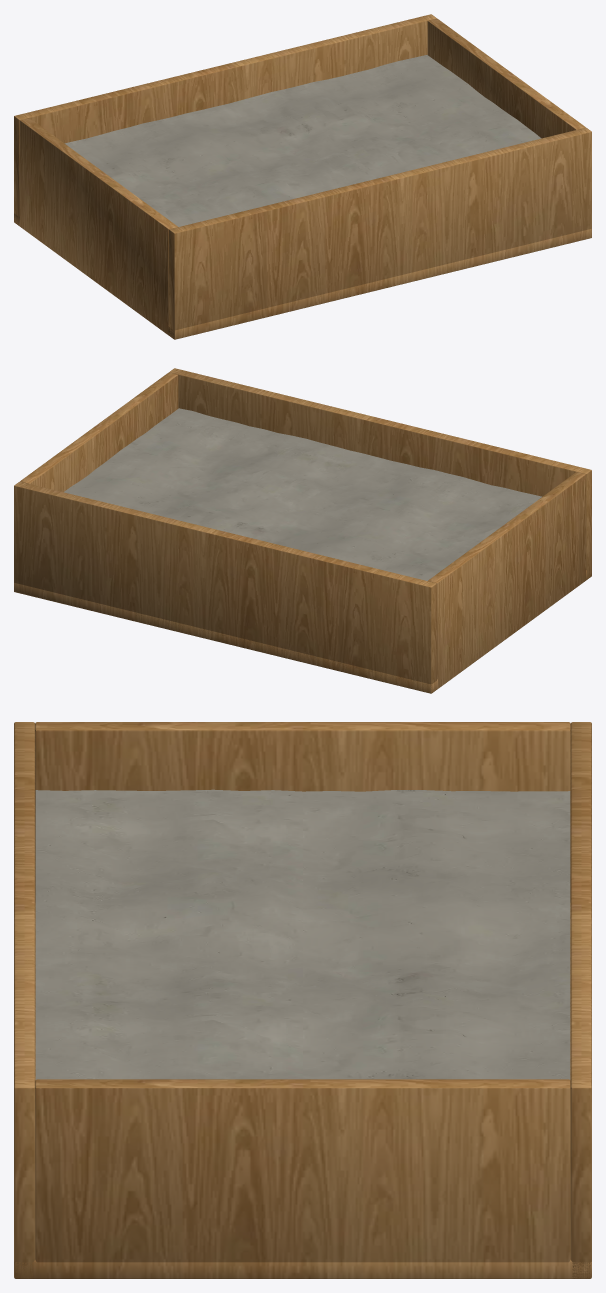
The model's file is REV-ARG-003.glb.
3 views of the same model, one above another, from view 1: azimuth 30°, elevation 25°; view 2: azimuth 150°, elevation 25°; view 3: azimuth 270°, elevation 25° (orthographic). The views are drawn at different scales.
Parts seen in each view (by area): view 1: REV-ARG-003_lado-1, REV-ARG-003_argamassa, REV-ARG-003_cab-1, REV-ARG-003_lado1, REV-ARG-003_cab1, REV-ARG-003_fundo; view 2: REV-ARG-003_lado1, REV-ARG-003_argamassa, REV-ARG-003_cab-1, REV-ARG-003_lado-1, REV-ARG-003_cab1, REV-ARG-003_fundo; view 3: REV-ARG-003_argamassa, REV-ARG-003_cab1, REV-ARG-003_cab-1, REV-ARG-003_lado-1, REV-ARG-003_lado1, REV-ARG-003_fundo.
Part boxes in pixels (<box>): REV-ARG-003_lado-1: <box>169,127,591,339</box>; REV-ARG-003_argamassa: <box>64,55,541,226</box>; REV-ARG-003_cab-1: <box>20,118,177,334</box>; REV-ARG-003_lado1: <box>14,14,436,225</box>; REV-ARG-003_cab1: <box>427,18,585,138</box>; REV-ARG-003_fundo: <box>14,213,591,339</box>; REV-ARG-003_lado1: <box>14,481,436,690</box>; REV-ARG-003_argamassa: <box>64,408,541,580</box>; REV-ARG-003_cab-1: <box>428,472,585,688</box>; REV-ARG-003_lado-1: <box>169,368,591,579</box>; REV-ARG-003_cab1: <box>20,372,178,492</box>; REV-ARG-003_fundo: <box>14,570,586,693</box>; REV-ARG-003_argamassa: <box>35,789,570,1079</box>; REV-ARG-003_cab1: <box>35,1079,570,1278</box>; REV-ARG-003_cab-1: <box>35,722,570,902</box>; REV-ARG-003_lado-1: <box>14,722,35,1278</box>; REV-ARG-003_lado1: <box>570,722,591,1278</box>; REV-ARG-003_fundo: <box>14,903,591,1278</box>.
Bounding box in the file's own units: 0.9 × 0.22 × 0.6.
2 materials, 2 textured.
